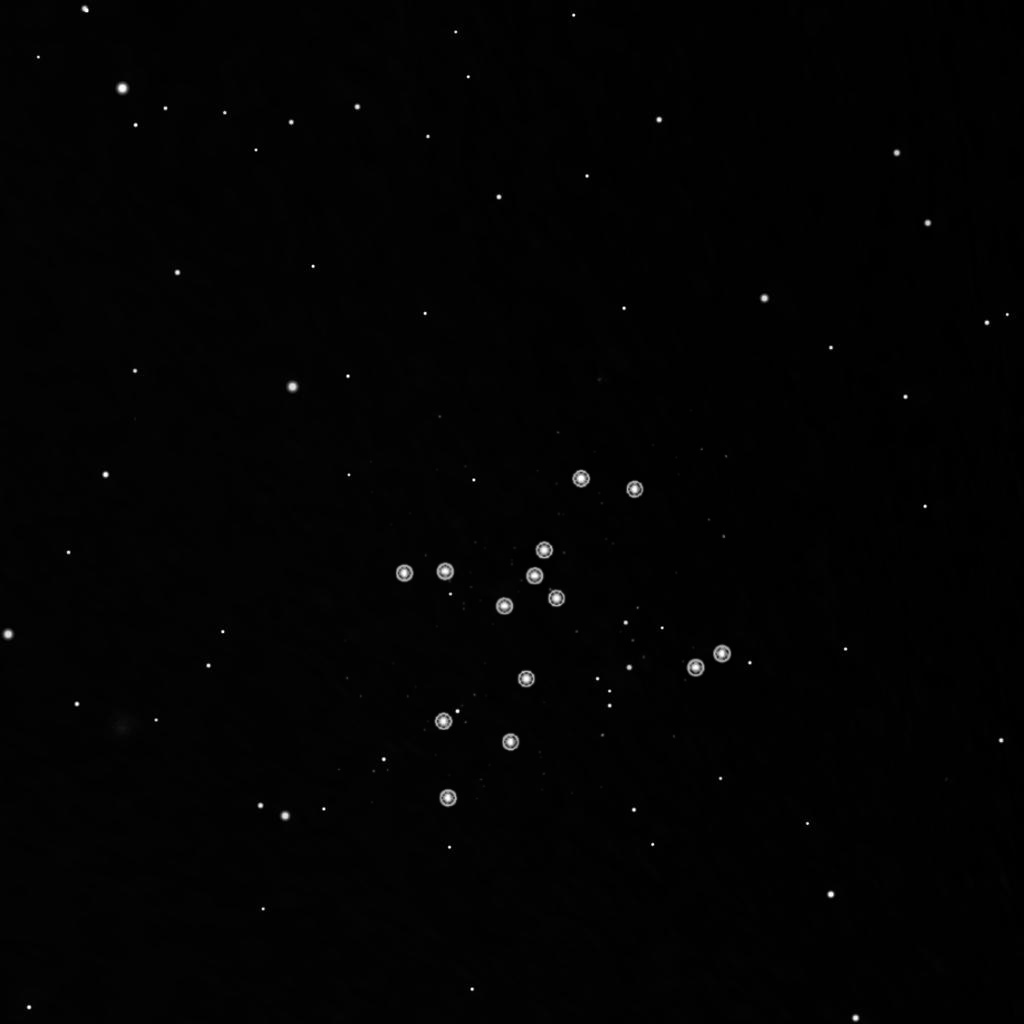canis_major: (489, 462, 651, 622)
